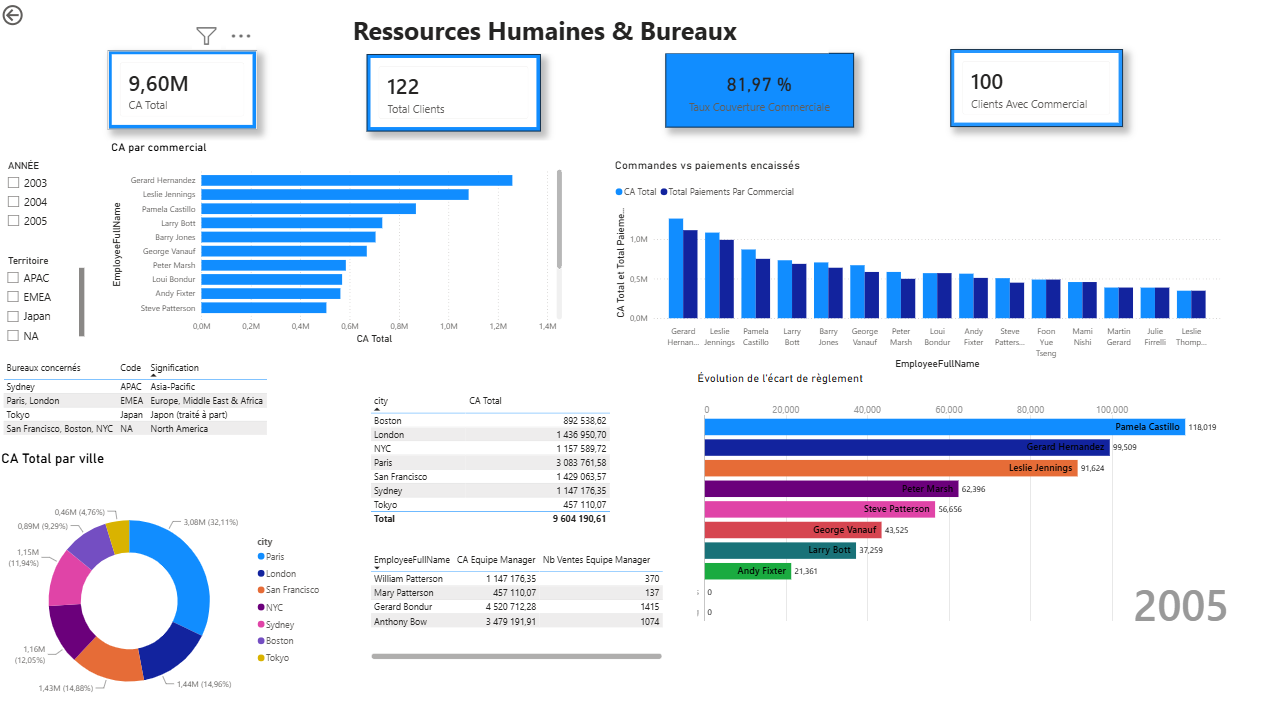

What the dashboard file says about the page in this screenshot:
{"tool":"powerbi","page":{"name":"RH & Bureaux","canvas":[1900,1100],"ordinal":0},"visuals":[{"type":"cardVisual","fields":{"Data":["fact_sales.CA Total"]},"box":[164.4,85.9,222.5,117.5],"z":0},{"type":"cardVisual","fields":{"Data":["_Mesures_KPI.Total Clients"]},"box":[551.5,91.5,260,115],"z":1000},{"type":"card","fields":{"Values":["dim_customers.Taux Couverture Commerciale"]},"box":[997.6,89.7,281.2,111.2],"z":2000},{"type":"cardVisual","fields":{"Data":["dim_customers.Clients Avec Commercial"]},"box":[1423.6,84.1,257.5,116.2],"z":3000},{"type":"donutChart","title":"CA Total par ville ","fields":{"Category":["dim_offices.city"],"Y":["fact_sales.CA Total"]},"box":[0,683.8,494.4,415.3],"z":4000},{"type":"tableEx","fields":{"Values":["dim_offices.city","fact_sales.CA Total"]},"box":[550.9,594.5,441.7,237.5],"z":5000},{"type":"clusteredBarChart","title":"CA par commercial","fields":{"Category":["dim_employees.EmployeeFullName"],"Y":["fact_sales.CA Total"]},"box":[164.4,220.4,683.8,310.1],"z":6000},{"type":"tableEx","fields":{"Values":["dim_employees.EmployeeFullName","fact_sales.CA Equipe Manager","fact_sales.Nb Ventes Equipe Manager"]},"box":[551.1,831.4,447.2,169.4],"z":7000},{"type":"clusteredColumnChart","title":"Commandes vs paiements encaissés","fields":{"Category":["dim_employees.EmployeeFullName"],"Y":["fact_sales.CA Total","fact_sales.Total Paiements Par Commercial"]},"box":[918.1,247,915,320],"z":8000},{"type":"slicer","fields":{"Values":["dim_dates.year"]},"box":[1.5,244.3,131.2,142.5],"z":9000},{"type":"slicer","fields":{"Values":["dim_offices.territory"]},"box":[1.5,387.3,131.9,143.1],"z":10000},{"type":"textbox","box":[405.1,26.9,836.4,63.6],"z":11000},{"type":"actionButton","box":[1.5,12.3,100,40],"z":12000},{"type":"wishyoulizationbarchartrace","title":"Évolution de l''écart de règlement","fields":{"name":["dim_employees.EmployeeFullName"],"value":["fact_sales.Ecart Commandes Paiements"],"year":["dim_dates.year"]},"box":[1040.3,566.5,812.5,383.3],"z":13000},{"type":"tableEx","fields":{"Values":["Legende_Territoires.Bureaux concernés","Legende_Territoires.Code","Legende_Territoires.Signification"]},"box":[1.9,543.7,433.4,127],"z":14000}]}

Visuals, with their boxes on the page's 1900x1100 design canvas (x1, y1, x2, y2). These are canvas units, not pixel positions in the 1261x722 screenshot, which may show the page scaled, cropped or inside an application window:
cardVisual - fact_sales.CA Total: rect(164, 86, 387, 203)
cardVisual - _Mesures_KPI.Total Clients: rect(552, 92, 812, 206)
card - dim_customers.Taux Couverture Commerciale: rect(998, 90, 1279, 201)
cardVisual - dim_customers.Clients Avec Commercial: rect(1424, 84, 1681, 200)
"CA Total par ville " donutChart: rect(0, 684, 494, 1099)
tableEx - dim_offices.city x fact_sales.CA Total: rect(551, 594, 993, 832)
"CA par commercial" clusteredBarChart: rect(164, 220, 848, 530)
tableEx - dim_employees.EmployeeFullName x fact_sales.CA Equipe Manager: rect(551, 831, 998, 1001)
"Commandes vs paiements encaissés" clusteredColumnChart: rect(918, 247, 1833, 567)
slicer - dim_dates.year: rect(2, 244, 133, 387)
slicer - dim_offices.territory: rect(2, 387, 133, 530)
textbox: rect(405, 27, 1242, 90)
actionButton: rect(2, 12, 102, 52)
"Évolution de l''écart de règlement" wishyoulizationbarchartrace: rect(1040, 566, 1853, 950)
tableEx - Legende_Territoires.Bureaux concernés x Legende_Territoires.Code: rect(2, 544, 435, 671)
